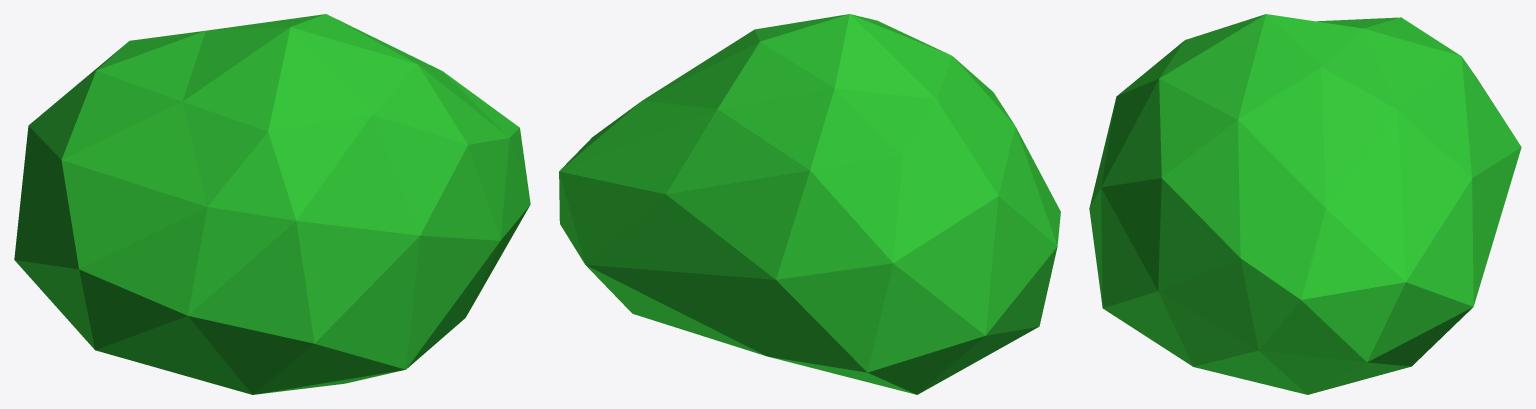
3 renders of one model, left to right at view 1: azimuth 30°, elevation 25°; view 2: azimuth 150°, elevation 25°; view 3: azimuth 270°, elevation 25°, orthographic. The views are drawn at different scales.
Visible parts, largest first — view 1: tree1_Icosphere.021; view 2: tree1_Icosphere.021; view 3: tree1_Icosphere.021.
Part boxes in pixels (x1,y1,x2,y2): tree1_Icosphere.021: (14,14,530,394); tree1_Icosphere.021: (559,14,1060,394); tree1_Icosphere.021: (1089,14,1521,394).
Size of the model in its own units: 3.96 by 2.8 by 3.32.
